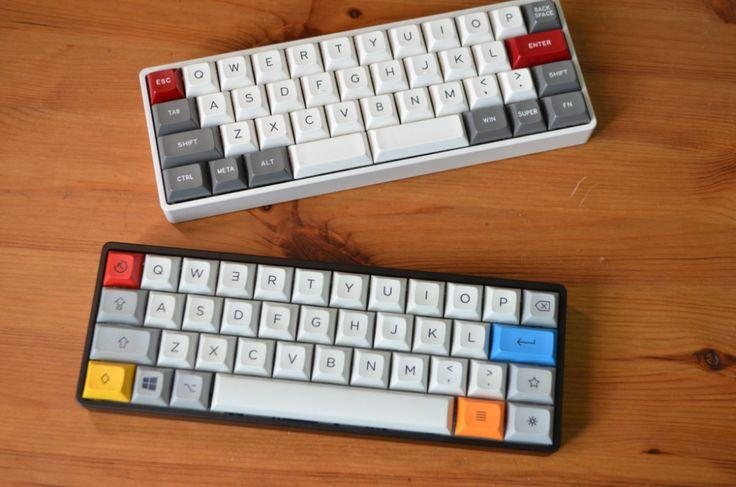keyboard: (75, 241, 567, 458), (138, 0, 597, 223)
